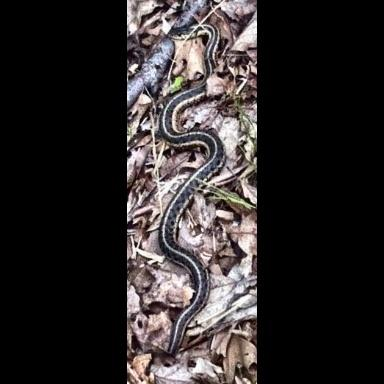snake: (129, 0, 257, 384)
